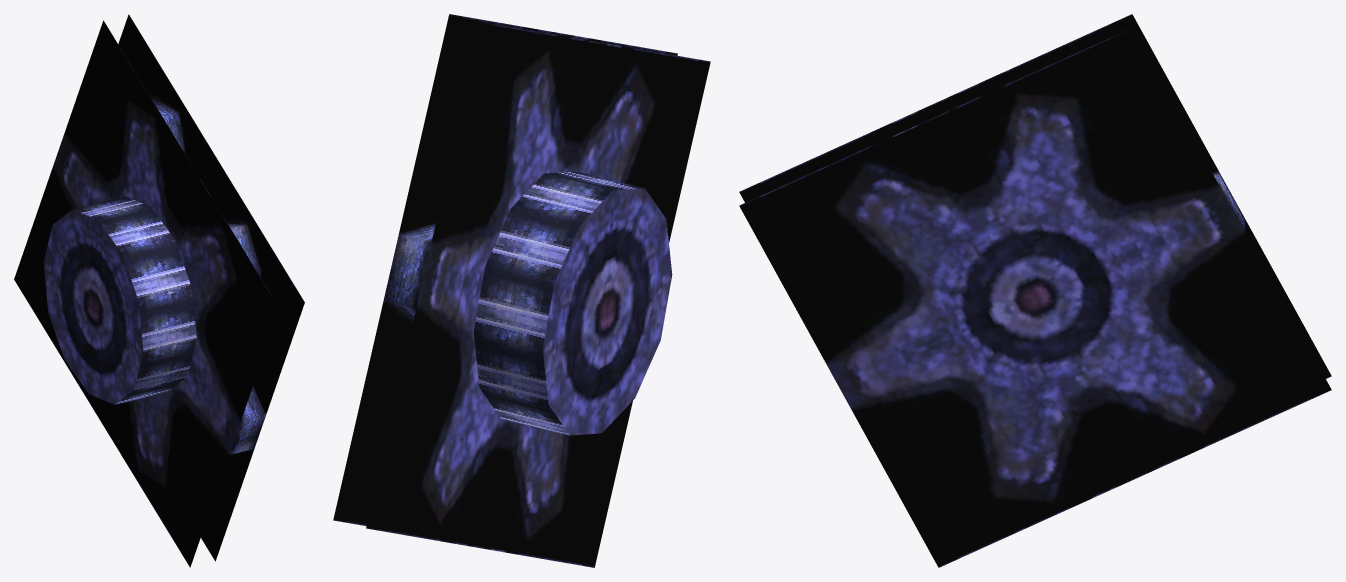
The model's file is INST_PUZZLE_PIECE1_PIECE1_METALLIC.fbx.
3 views of the same model, side by side, from view 1: azimuth 30°, elevation 25°; view 2: azimuth 150°, elevation 25°; view 3: azimuth 270°, elevation 25° (orthographic). The views are drawn at different scales.
Parts seen in each view (by area): view 1: INST_PUZZLE_PIECE1_PIECE1_METALLIC; view 2: INST_PUZZLE_PIECE1_PIECE1_METALLIC; view 3: INST_PUZZLE_PIECE1_PIECE1_METALLIC.
Part boxes in pixels (x1,y1,x2,y2): INST_PUZZLE_PIECE1_PIECE1_METALLIC: (14, 14, 304, 567); INST_PUZZLE_PIECE1_PIECE1_METALLIC: (333, 14, 710, 567); INST_PUZZLE_PIECE1_PIECE1_METALLIC: (739, 14, 1331, 567).
Bounding box in the file's own units: 783 × 4613 × 4588.
Materials: 3 (3 with a texture image).
